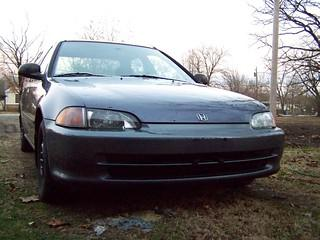bonnet-dent: (50, 72, 264, 118)
